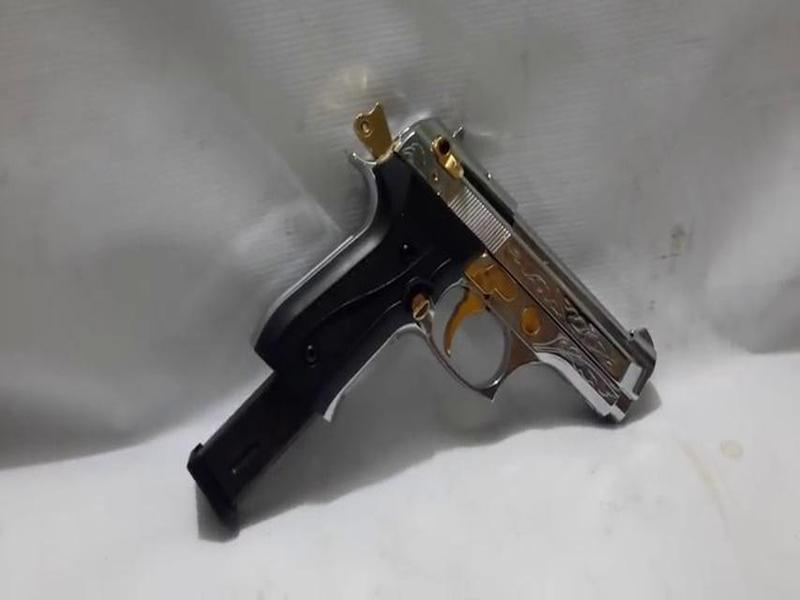Pistola: (252, 57, 659, 429)
